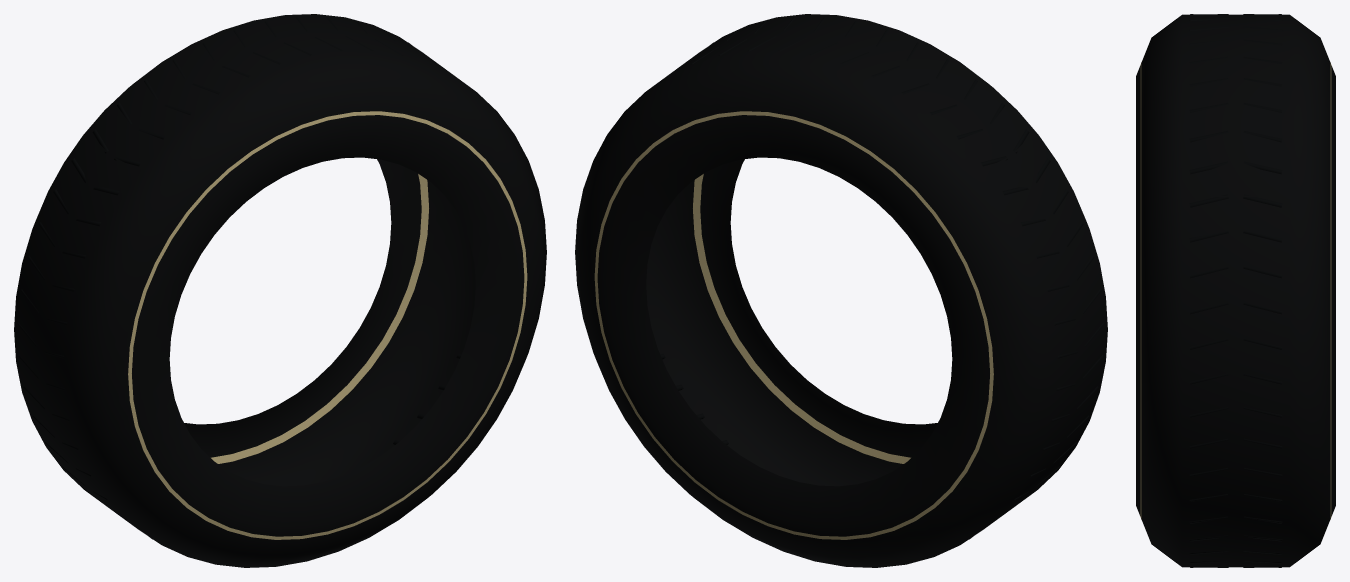
The model's file is Car70Tire.obj.
3 views of the same model, side by side, from view 1: azimuth 30°, elevation 25°; view 2: azimuth 150°, elevation 25°; view 3: azimuth 270°, elevation 25° (orthographic).
Parts seen in each view (by area): view 1: Car70Tire; view 2: Car70Tire; view 3: Car70Tire.
Boxes of the visible parts, x1,y1,x2,y2 form: Car70Tire: (14,14,546,567); Car70Tire: (575,14,1107,567); Car70Tire: (1136,14,1335,567).
Size of the model in its own units: 72.24 by 72.24 by 26.
